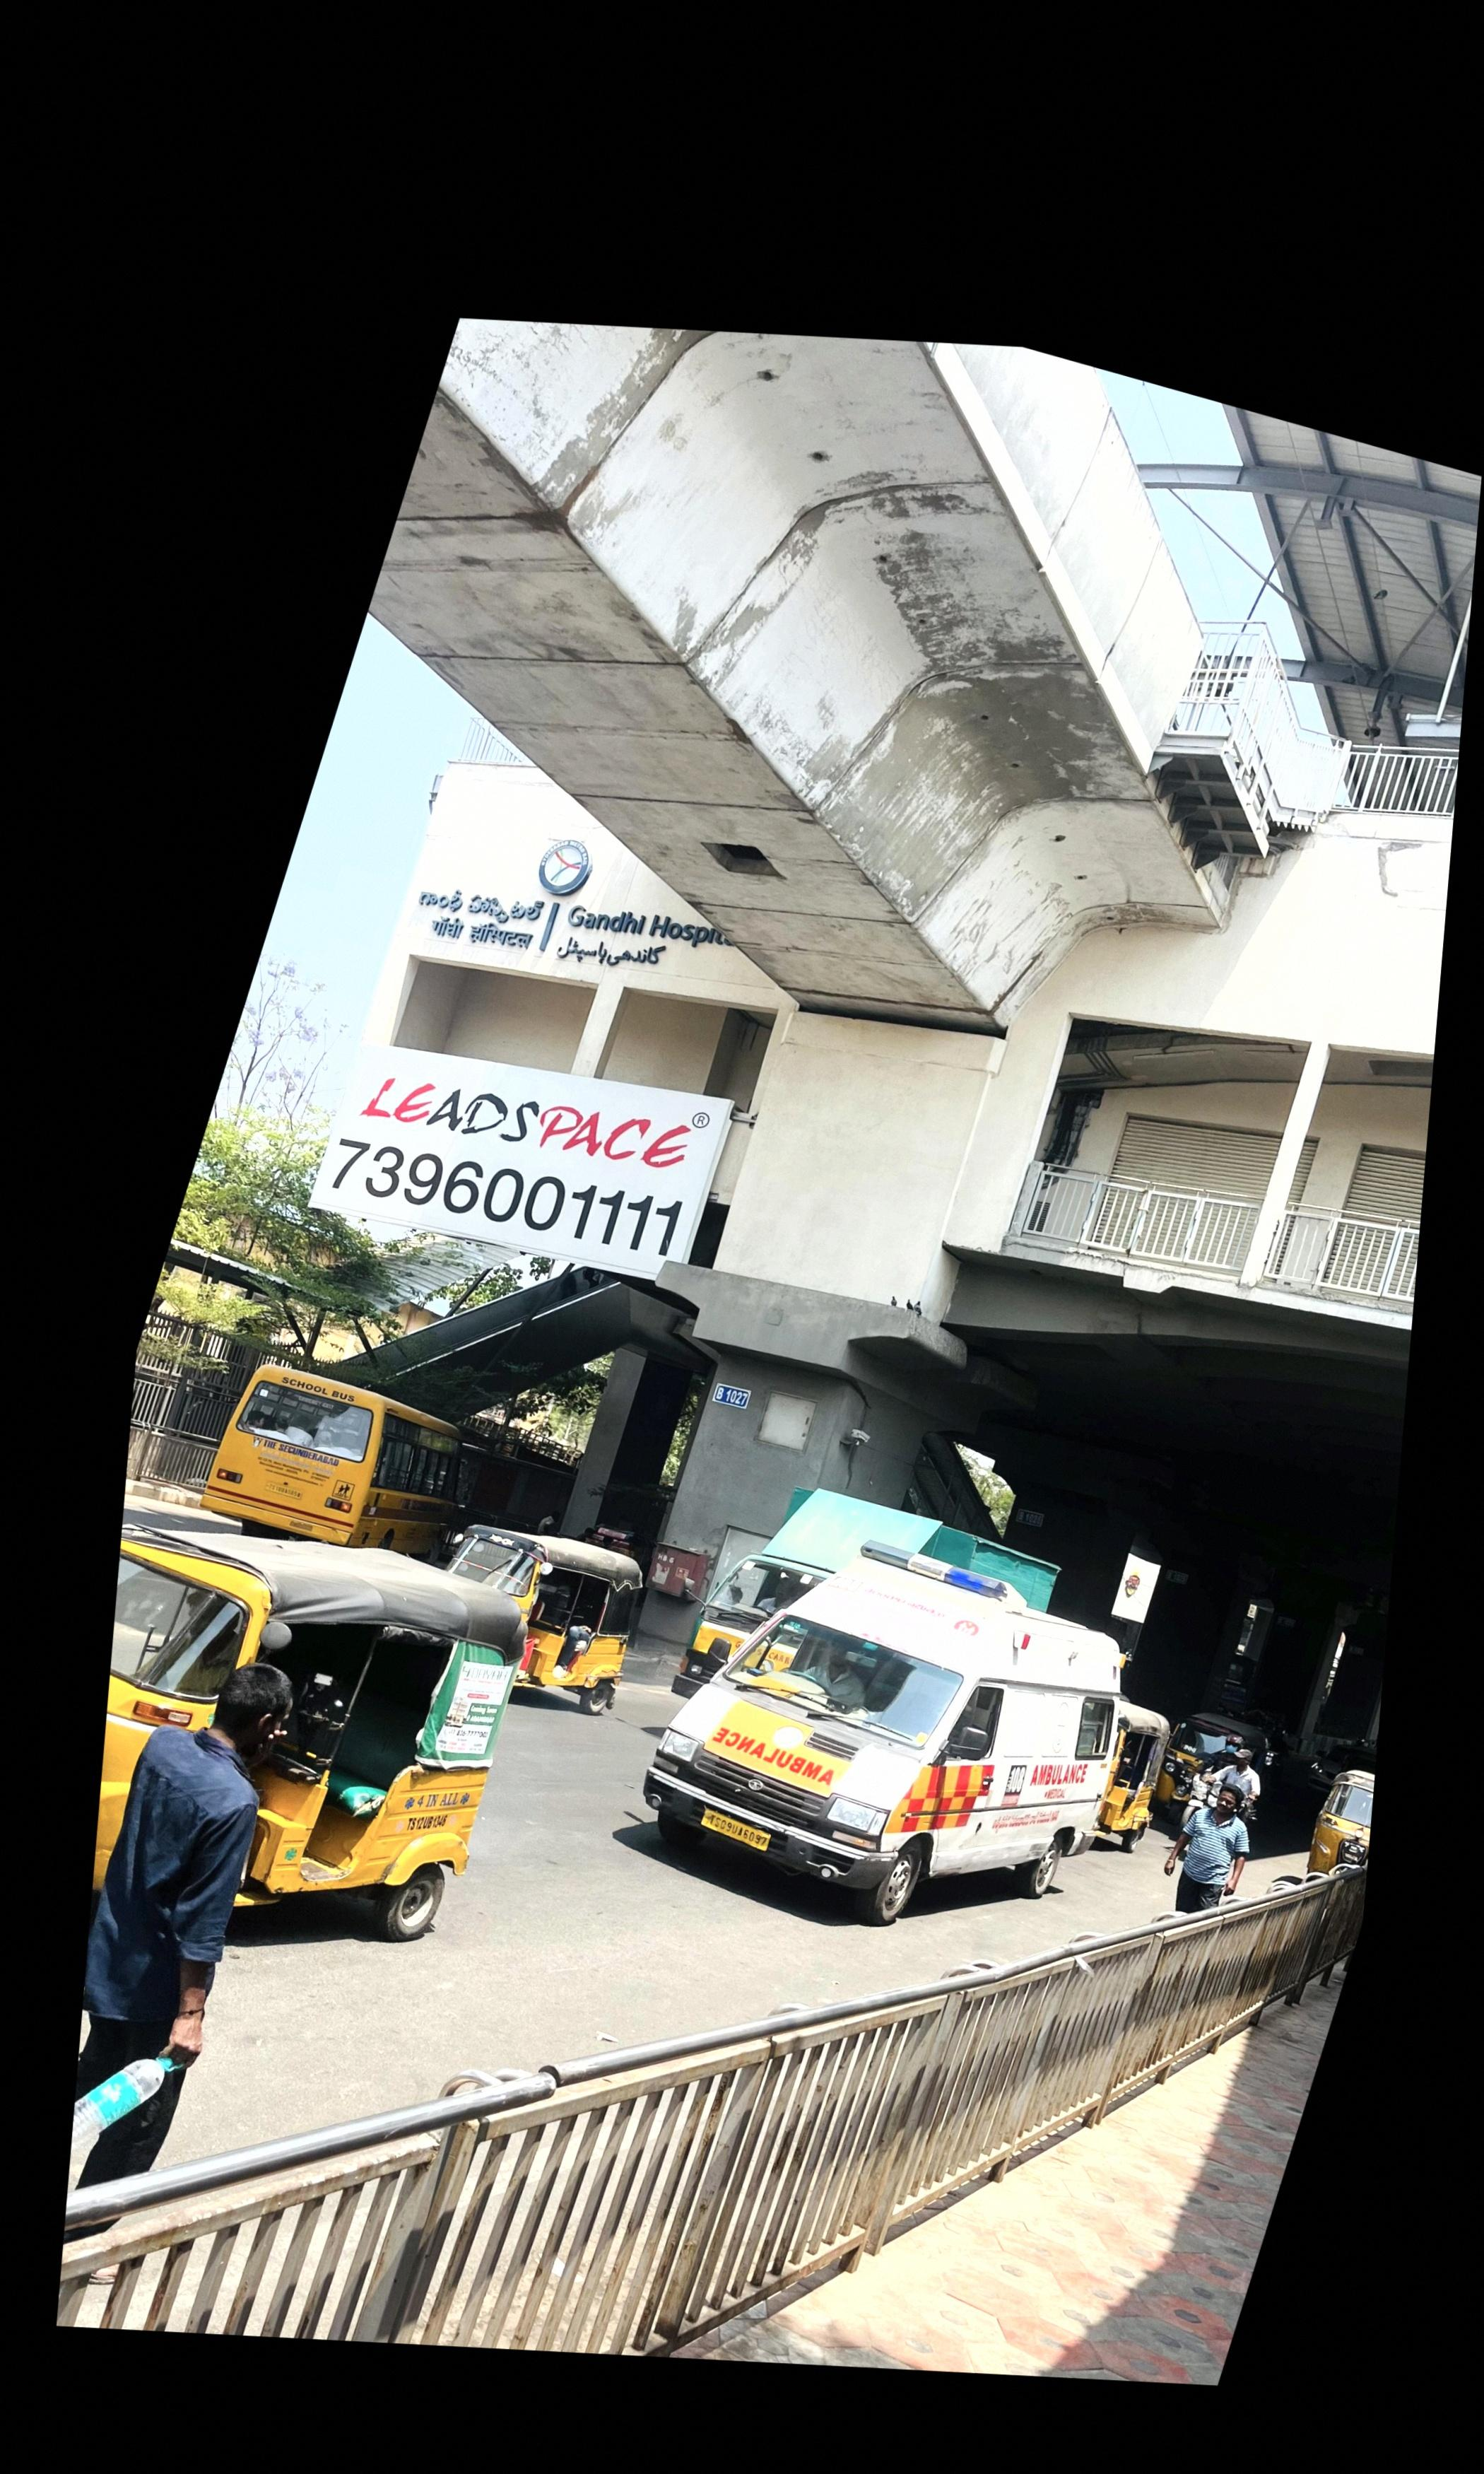ambulance: (640, 1539, 1120, 1924)
